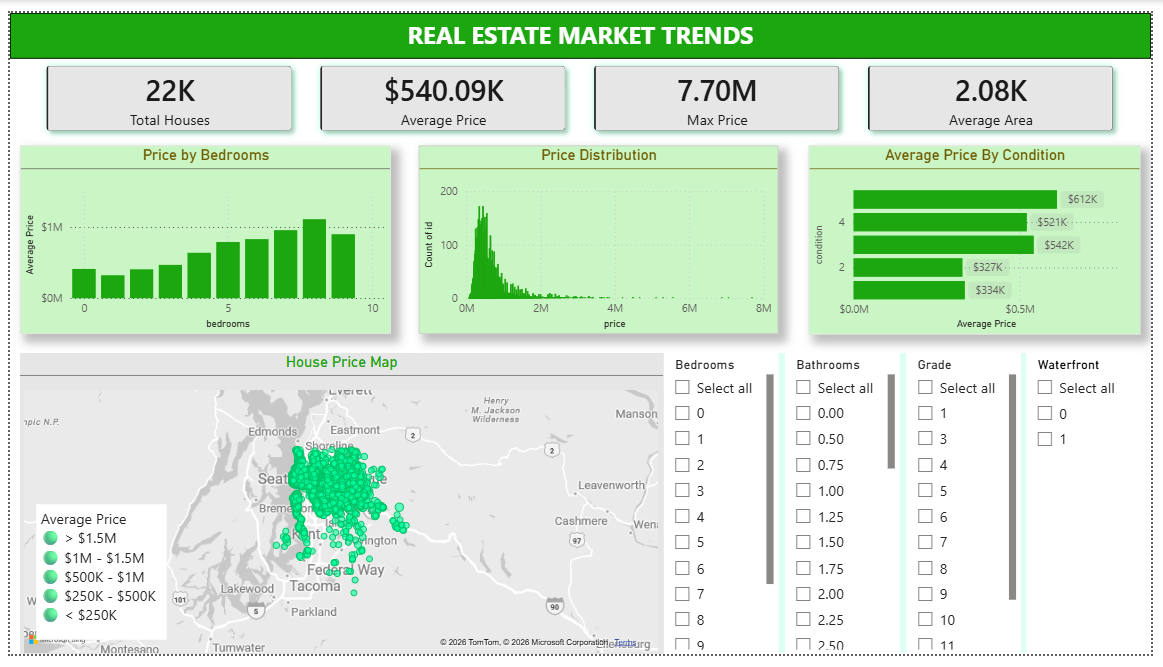

This screenshot's page, from the dashboard's own definition file:
{"tool":"powerbi","page":{"name":"Page 1","canvas":[1280,720],"ordinal":0},"visuals":[{"type":"map","title":"House Price Map","fields":{"Y":["kc_house_data.lat"],"X":["kc_house_data.long"],"Size":["Avg(kc_house_data.price)"]},"box":[11.4,381.4,721.4,340],"z":0},{"type":"cardVisual","fields":{"Data":["kc_house_data.Total Houses","kc_house_data.Average Price","kc_house_data.Max Price","kc_house_data.Average Area"]},"box":[11.7,30,1256.7,133.3],"z":1000},{"type":"clusteredColumnChart","title":"Price Distribution","fields":{"Category":["kc_house_data.price"],"Y":["CountNonNull(kc_house_data.id)"]},"box":[458.6,148.6,402.9,211.4],"z":2000},{"type":"clusteredBarChart","title":"Average Price By Condition","fields":{"Y":["kc_house_data.Average Price"],"Category":["kc_house_data.condition"]},"box":[896.7,148.3,371.7,211.7],"z":3000},{"type":"group","id":"g1","title":"Group 1","box":[732.9,381.4,535.7,337.1],"z":4000},{"type":"clusteredColumnChart","title":"Price by Bedrooms","fields":{"Category":["kc_house_data.bedrooms"],"Y":["kc_house_data.Average Price"]},"box":[11.4,148.6,415.7,211.4],"z":5000},{"type":"slicer","fields":{"Values":["kc_house_data.bedrooms"]},"box":[732.9,381.4,128.5,337.7],"z":5000,"group":"g3"},{"type":"group","id":"g2","title":"Group 2","box":[732.9,381.4,536.9,337.7],"z":5001,"group":"g1"},{"type":"group","id":"g3","title":"Group 3","box":[732.9,381.4,535.6,337.7],"z":5001,"group":"g2"},{"type":"slicer","fields":{"Values":["Slicer_Bathrooms.bathrooms"]},"box":[869.3,381.4,128.5,337.7],"z":6000,"group":"g3"},{"type":"textbox","box":[30,551.4,146.7,151.7],"z":6000},{"type":"textbox","box":[0,0,1280,51.4],"z":7000},{"type":"slicer","fields":{"Values":["kc_house_data.grade"]},"box":[1004.6,381.4,128.5,337.7],"z":7000,"group":"g3"},{"type":"slicer","fields":{"Values":["kc_house_data.waterfront"]},"box":[1140,381.4,128.5,337.7],"z":8000,"group":"g3"}]}

Visuals, with their boxes in screenshot pixels (x1, y1, x2, y2), scaled from the page's 1280x720 canvas onto the 1163x667 screenshot:
"House Price Map" map: bbox=[10, 353, 666, 666]
cardVisual - kc_house_data.Total Houses x kc_house_data.Average Price: bbox=[11, 28, 1152, 151]
"Price Distribution" clusteredColumnChart: bbox=[417, 138, 783, 334]
"Average Price By Condition" clusteredBarChart: bbox=[815, 137, 1152, 334]
"Group 1" group: bbox=[666, 353, 1153, 666]
"Price by Bedrooms" clusteredColumnChart: bbox=[10, 138, 388, 334]
slicer - kc_house_data.bedrooms: bbox=[666, 353, 783, 666]
"Group 2" group: bbox=[666, 353, 1154, 666]
"Group 3" group: bbox=[666, 353, 1153, 666]
slicer - Slicer_Bathrooms.bathrooms: bbox=[790, 353, 907, 666]
textbox: bbox=[27, 511, 161, 651]
textbox: bbox=[0, 0, 1162, 48]
slicer - kc_house_data.grade: bbox=[913, 353, 1030, 666]
slicer - kc_house_data.waterfront: bbox=[1036, 353, 1153, 666]
